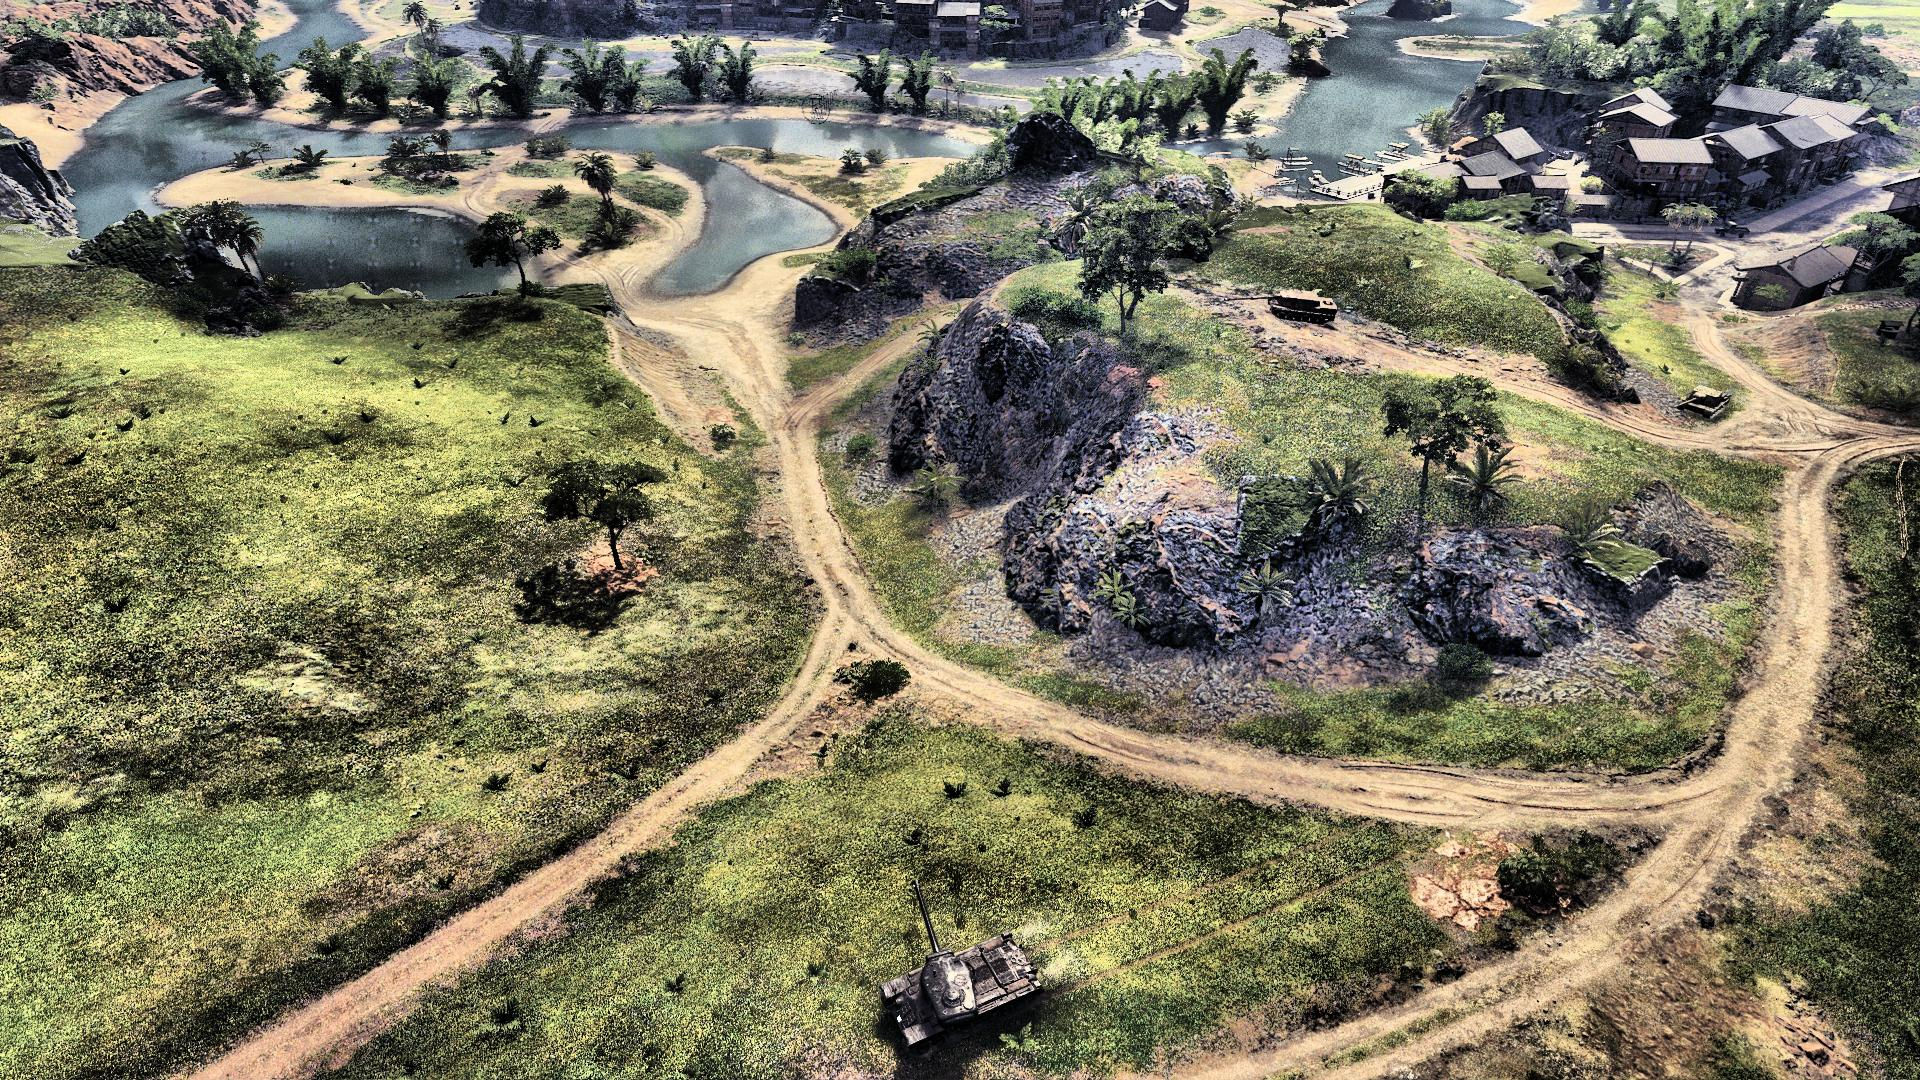military-vehicle: (877, 882, 1043, 1047), (1226, 286, 1340, 324), (1672, 384, 1735, 421)
